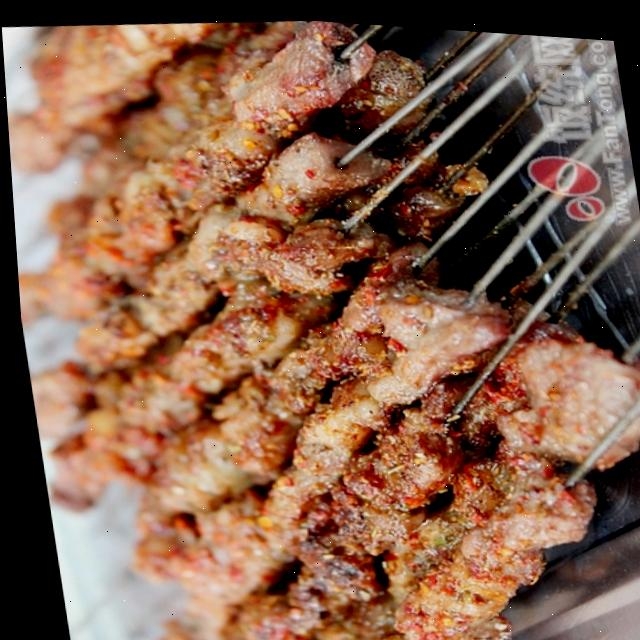烧串烤肉: (21, 65, 613, 639)
